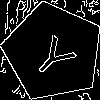Y: (28, 27, 85, 83)
